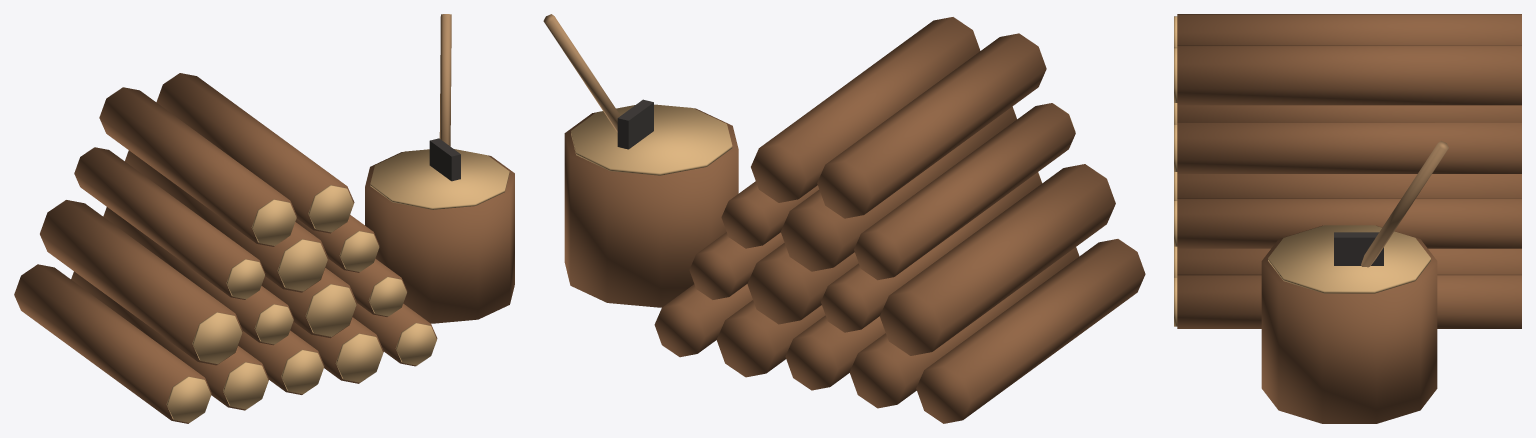
File: woodpile.glb
The picture shows the model from 3 angles, left to right: view 1: azimuth 30°, elevation 25°; view 2: azimuth 150°, elevation 25°; view 3: azimuth 270°, elevation 25°; orthographic projection. The views are drawn at different scales.
Parts seen in each view (by area): view 1: woodpile; view 2: woodpile; view 3: woodpile.
Boxes of the visible parts, x1,y1,x2,y2 form: woodpile: [14, 14, 514, 423]; woodpile: [543, 14, 1145, 423]; woodpile: [1174, 14, 1521, 423].
Size of what is drawn, in the model's own units: 1.75 by 0.9589 by 1.11.
